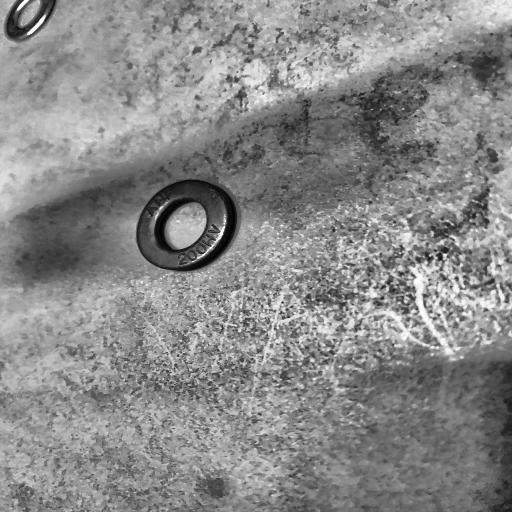Washer: (135, 178, 240, 273), (4, 0, 57, 42)
